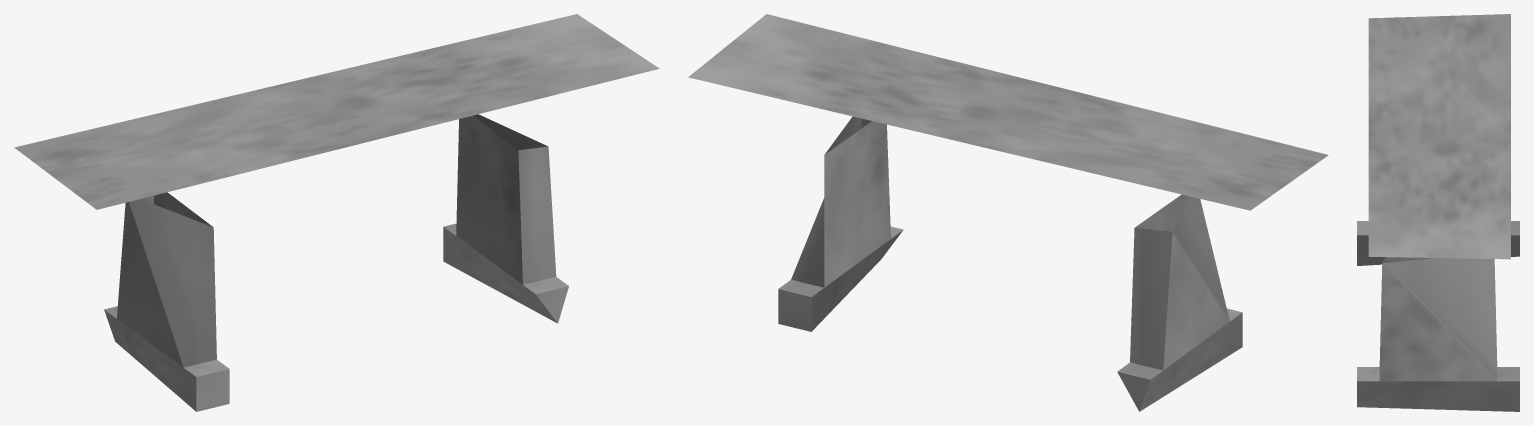
File: BancoPedraLOD2.fbx
3 views of the same model, side by side, from view 1: azimuth 30°, elevation 25°; view 2: azimuth 150°, elevation 25°; view 3: azimuth 270°, elevation 25° (orthographic). The views are drawn at different scales.
Visible parts, largest first — view 1: BancoDeConcretoLOD2; view 2: BancoDeConcretoLOD2; view 3: BancoDeConcretoLOD2.
Boxes of the visible parts, x1,y1,x2,y2 form: BancoDeConcretoLOD2: (14, 14, 659, 411); BancoDeConcretoLOD2: (688, 14, 1328, 411); BancoDeConcretoLOD2: (1357, 14, 1519, 411).
Size of the model in its own units: 131 by 49.7 by 37.2.
